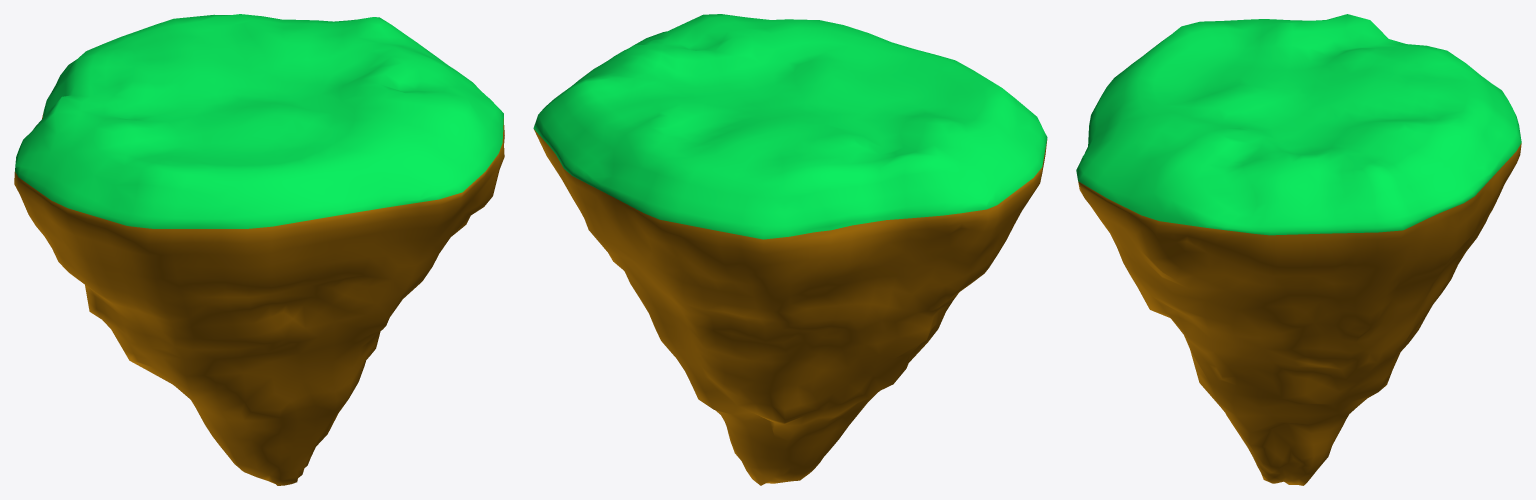
Rendered from Island.fbx.
3 views of the same model, side by side, from view 1: azimuth 30°, elevation 25°; view 2: azimuth 150°, elevation 25°; view 3: azimuth 270°, elevation 25° (orthographic). The views are drawn at different scales.
Parts seen in each view (by area): view 1: polySurface1; view 2: polySurface1; view 3: polySurface1.
Boxes of the visible parts, x1,y1,x2,y2 form: polySurface1: (14, 14, 504, 485); polySurface1: (533, 14, 1047, 485); polySurface1: (1076, 14, 1521, 485).
Size of the model in its own units: 31.52 by 27.82 by 29.22.
